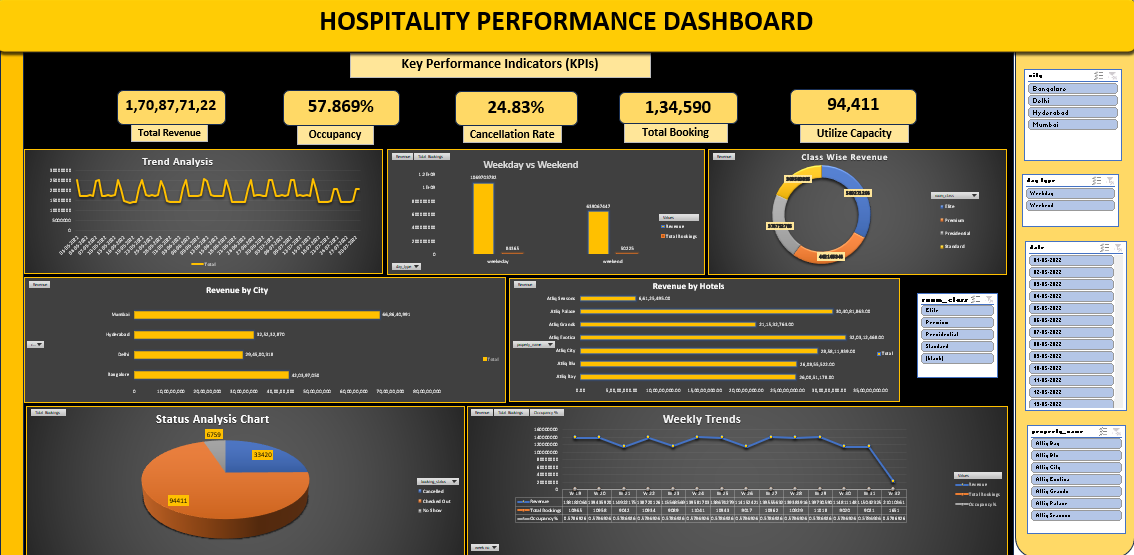

The page's visual inventory and layout, read from the dashboard file:
{"tool":"powerbi","page":{"name":"Page 8","canvas":[1280,720],"ordinal":7},"visuals":[{"type":"textbox","box":[10.1,0,1270.3,78.9],"z":0},{"type":"clusteredColumnChart","title":"Weekday vs Weekend Revenue and Total Bookings","fields":{"Category":["dim_date.day type"],"Y":["fact_bookings.Revenue","fact_bookings.Total Bookings"]},"box":[401.9,188.1,388,261],"z":6000},{"type":"hundredPercentStackedBarChart","title":"Revenue Contribution by City and Hotel","fields":{"Y":["fact_bookings.Revenue"],"Category":["dim_hotels.city"],"Series":["dim_hotels.property_name"]},"box":[11.1,447.5,448,272.7],"z":7000},{"type":"donutChart","title":"Revenue Distribution by Room Class","fields":{"Category":["dim_rooms.room_class"],"Y":["fact_bookings.Revenue"]},"box":[457.5,447.5,337.3,272.7],"z":8000},{"type":"lineChart","title":"Revenue Trend Over Daily (day)","fields":{"Category":["dim_date.date.Variation.Date Hierarchy.Year","dim_date.date.Variation.Date Hierarchy.Quarter","dim_date.date.Variation.Date Hierarchy.Month","dim_date.date.Variation.Date Hierarchy.Day"],"Y":["fact_bookings.Revenue"]},"box":[11.3,188.2,391.1,259],"z":9000},{"type":"clusteredColumnChart","title":"Booking Status Breakdown (Checked-Out, Cancelled & No-Show)","fields":{"Category":["fact_bookings.booking_status"],"Y":["fact_bookings.Total Bookings"]},"box":[787,188.1,363,260],"z":10000},{"type":"lineChart","title":"Weekly Performance Trend: Revenue, Bookings & Occupancy","fields":{"Category":["dim_date.week no"],"Y":["fact_bookings.Revenue"],"Y2":["fact_bookings.Total Bookings","fact_aggregated_bookings.Occupancy %"]},"box":[787.8,446.9,360.2,272.4],"z":11000},{"type":"slicer","fields":{"Values":["dim_date.date"]},"box":[1146.3,78.9,134.1,148.8],"z":12000},{"type":"slicer","fields":{"Values":["dim_hotels.city"]},"box":[1146.3,227.7,134.1,153.3],"z":13000},{"type":"slicer","fields":{"Values":["dim_rooms.room_class"]},"box":[1146.3,381,134.1,172.4],"z":14000},{"type":"slicer","fields":{"Values":["fact_bookings.booking_status"]},"box":[1146.3,553.4,134.1,166.8],"z":15000},{"type":"image","box":[175.8,0,116.1,78.9],"z":16000},{"type":"cardVisual","fields":{"Data":["fact_bookings.Revenue","fact_bookings.Total Bookings","fact_aggregated_bookings.Occupancy %","fact_bookings.Cancellation %","fact_bookings.Utilize Capacity"]},"box":[11.3,78.9,1138.4,110.5],"z":17000}]}

Visuals, with their boxes on the page's 1280x720 design canvas (x1, y1, x2, y2). These are canvas units, not pixel positions in the 1134x555 screenshot, which may show the page scaled, cropped or inside an application window:
textbox: detection(10, 0, 1280, 79)
"Weekday vs Weekend Revenue and Total Bookings" clusteredColumnChart: detection(402, 188, 790, 449)
"Revenue Contribution by City and Hotel" hundredPercentStackedBarChart: detection(11, 448, 459, 720)
"Revenue Distribution by Room Class" donutChart: detection(458, 448, 795, 720)
"Revenue Trend Over Daily (day)" lineChart: detection(11, 188, 402, 447)
"Booking Status Breakdown (Checked-Out, Cancelled & No-Show)" clusteredColumnChart: detection(787, 188, 1150, 448)
"Weekly Performance Trend: Revenue, Bookings & Occupancy" lineChart: detection(788, 447, 1148, 719)
slicer - dim_date.date: detection(1146, 79, 1280, 228)
slicer - dim_hotels.city: detection(1146, 228, 1280, 381)
slicer - dim_rooms.room_class: detection(1146, 381, 1280, 553)
slicer - fact_bookings.booking_status: detection(1146, 553, 1280, 720)
image: detection(176, 0, 292, 79)
cardVisual - fact_bookings.Revenue x fact_bookings.Total Bookings: detection(11, 79, 1150, 189)
